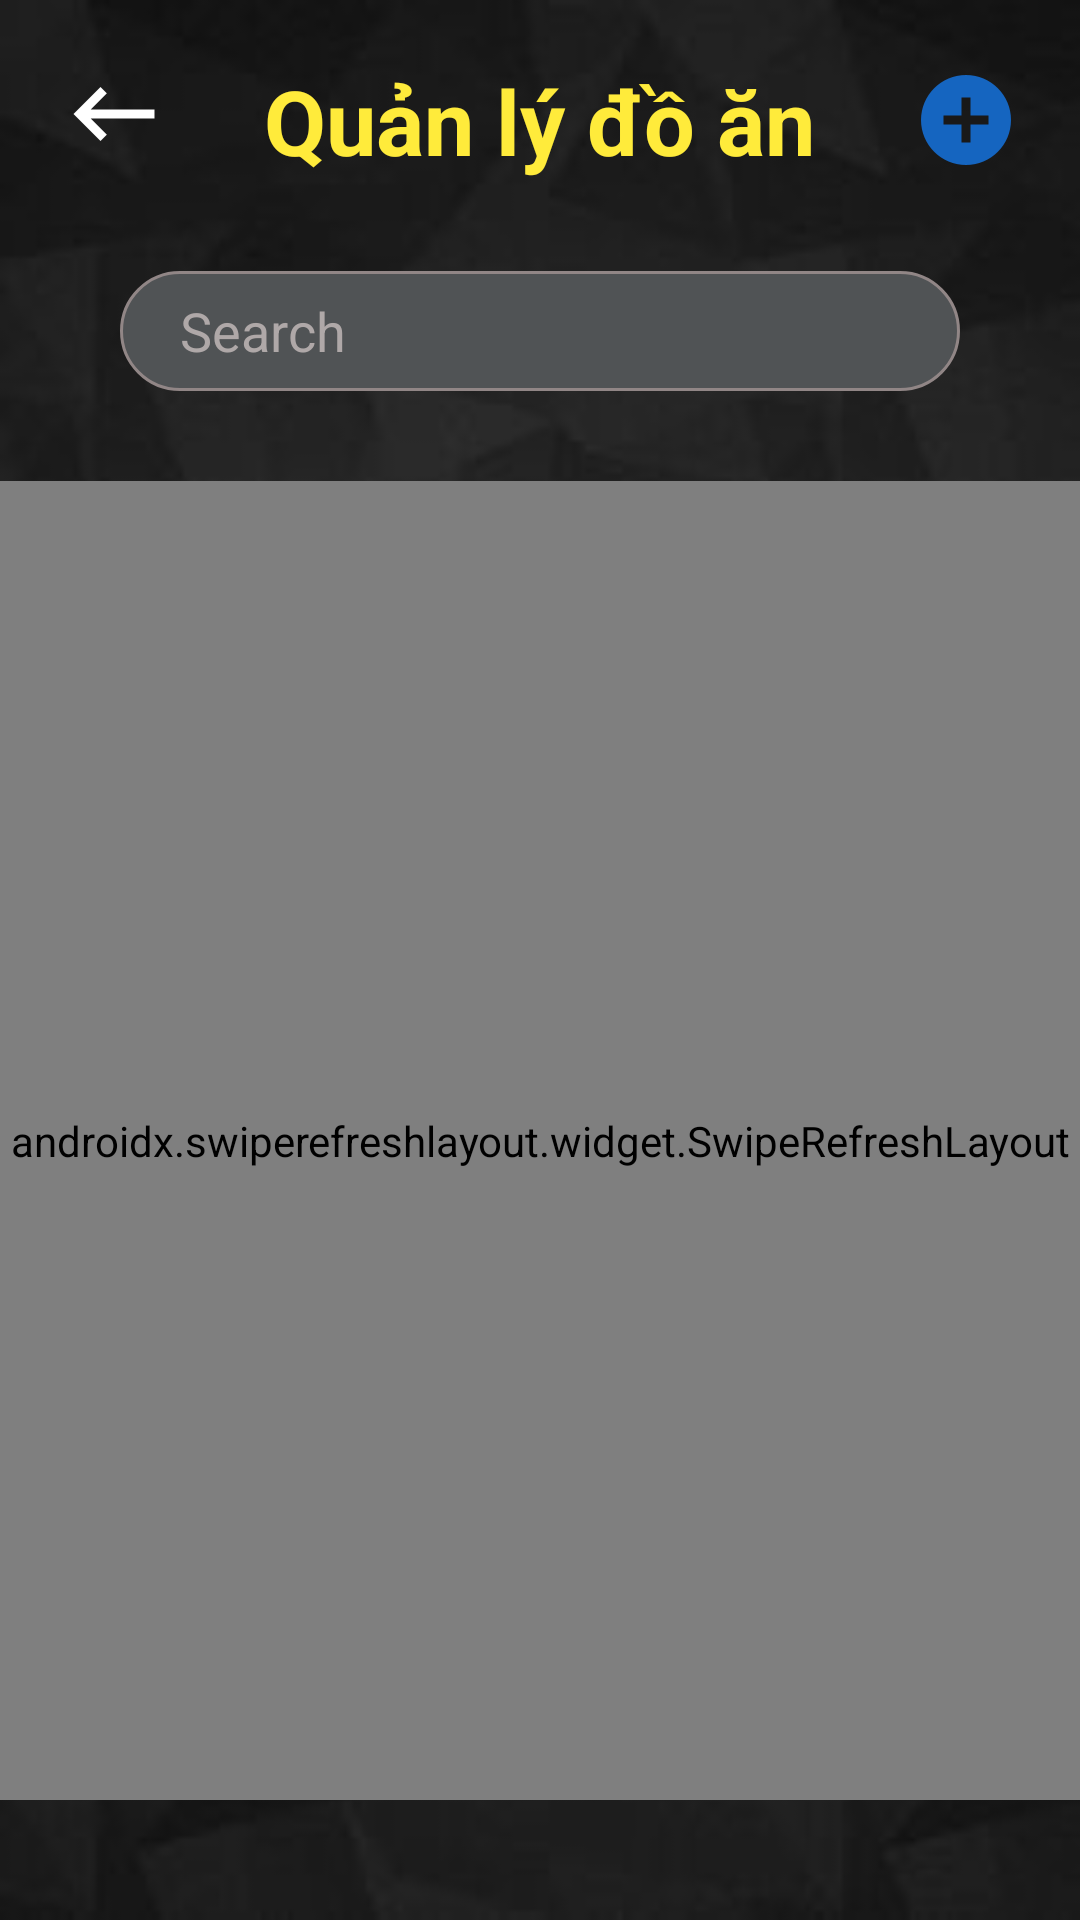

Icons on this 1080px x 1920px Android screen, each with the point to tap as [x,y]:
add circle: [966,120]
keyboard backspace: [114,114]
